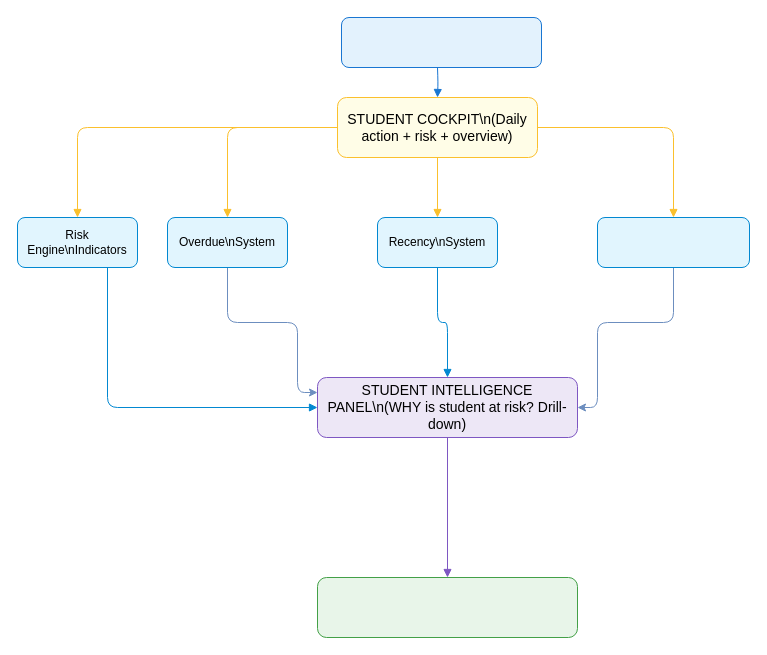
Image size: 767x655. Some labels were removed from this diagram. The centre of each missing label's shape, as x and y in pixels:
"Assignment\nTracking" belongs at (673,242).
"HEATMAP VIEW\n(Outcome-level mastery visualization)" belongs at (447,607).
"TEACHER / USER" belongs at (441,42).
